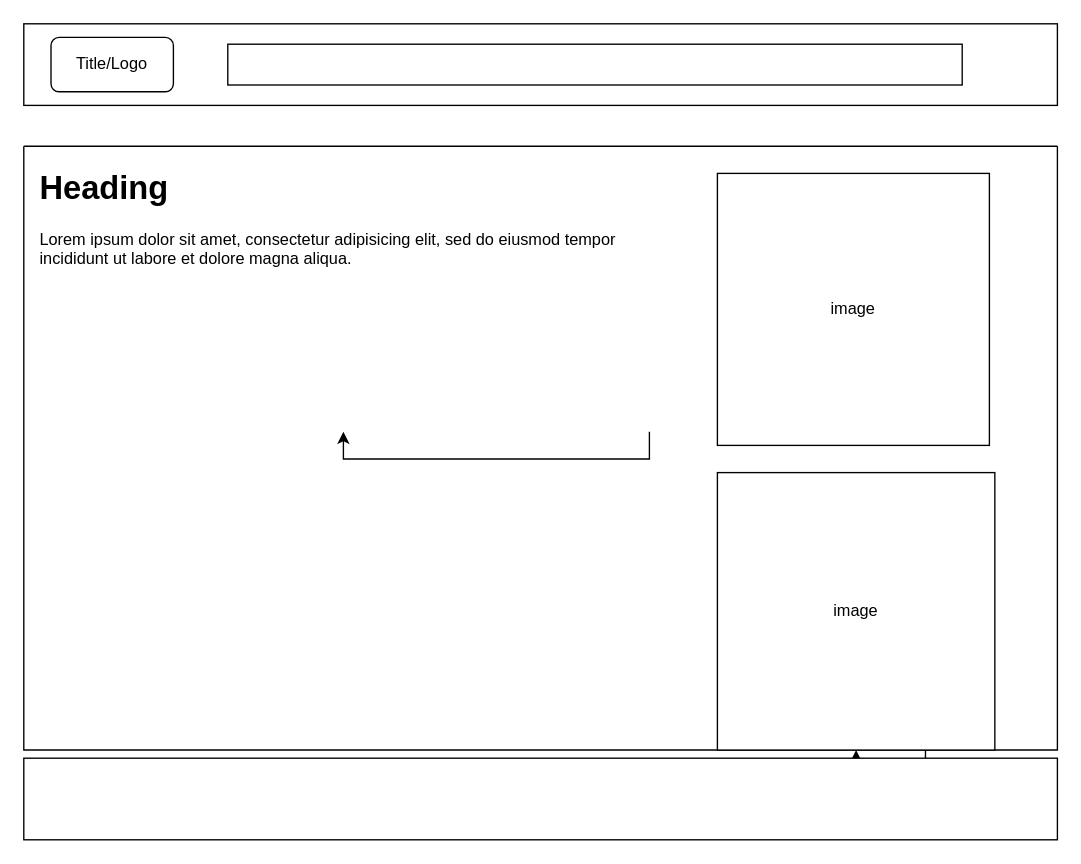
The diagram is 1081 pixels wide and 864 high, and some of its shapes have lost their labels. Each missing label, with the box of its shape:
Footer Content: (22, 757, 1057, 840)
Navigation bar: (226, 43, 962, 85)
